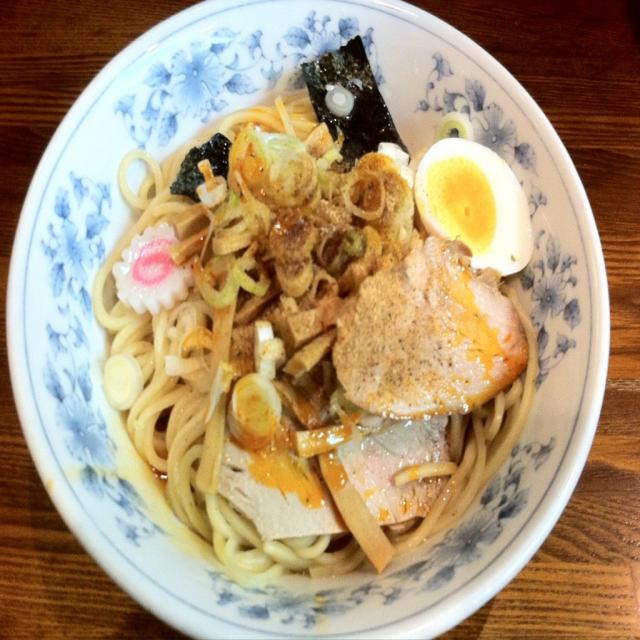Egg: (411, 136, 535, 280)
